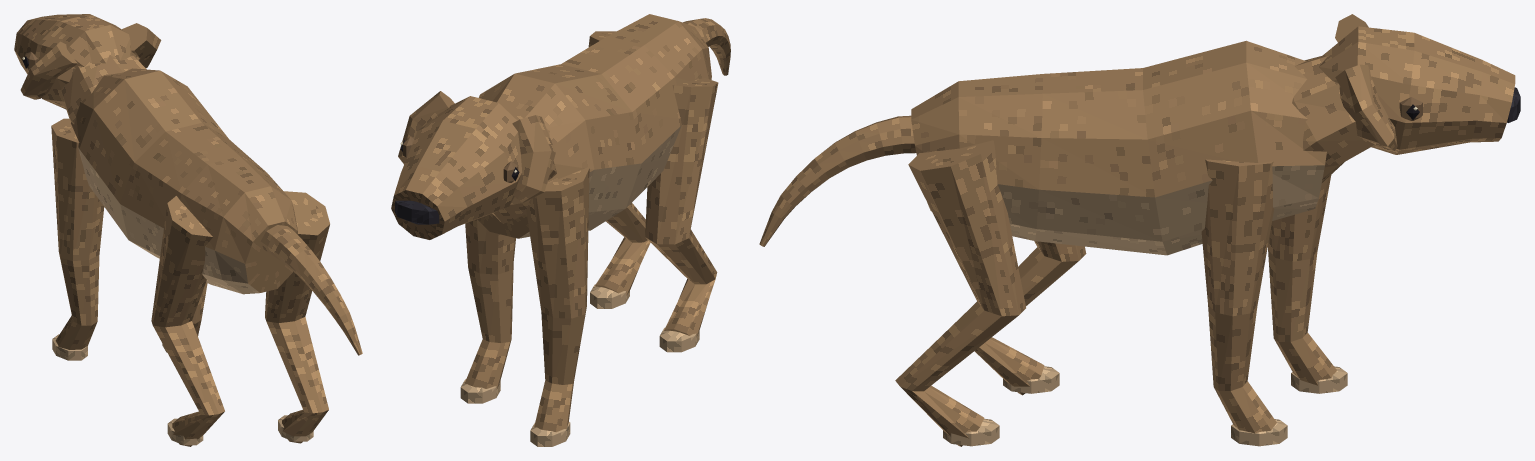
Rendered from mon_dog.glb.
3 renders of one model, left to right at view 1: azimuth 30°, elevation 25°; view 2: azimuth 150°, elevation 25°; view 3: azimuth 270°, elevation 25°, orthographic. The views are drawn at different scales.
Parts seen in each view (by area): view 1: closed_body; view 2: closed_body; view 3: closed_body.
Part boxes in pixels (x1=…): closed_body: x1=14, y1=14, x2=362, y2=446; closed_body: x1=391, y1=14, x2=730, y2=446; closed_body: x1=759, y1=14, x2=1520, y2=446.
Bounding box in the file's own units: 0.3384 × 0.7685 × 1.38.
Materials: 1 (1 with a texture image).
